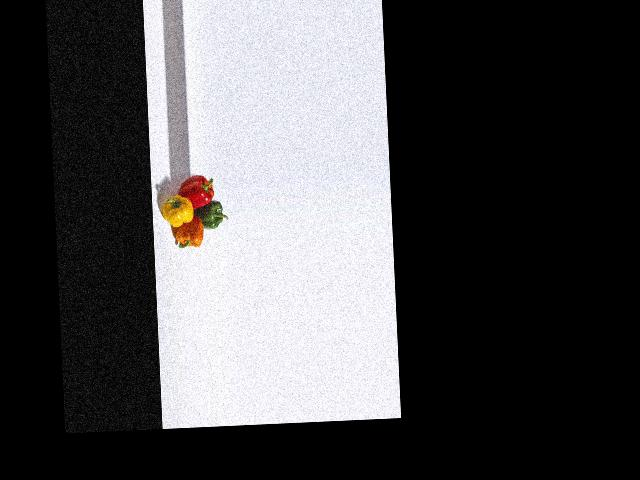bell_pepper: (178, 173, 218, 208)
